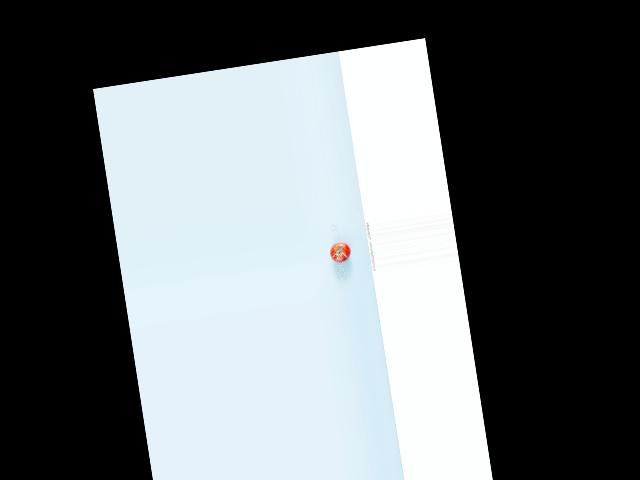tomato: (328, 240, 353, 263)
